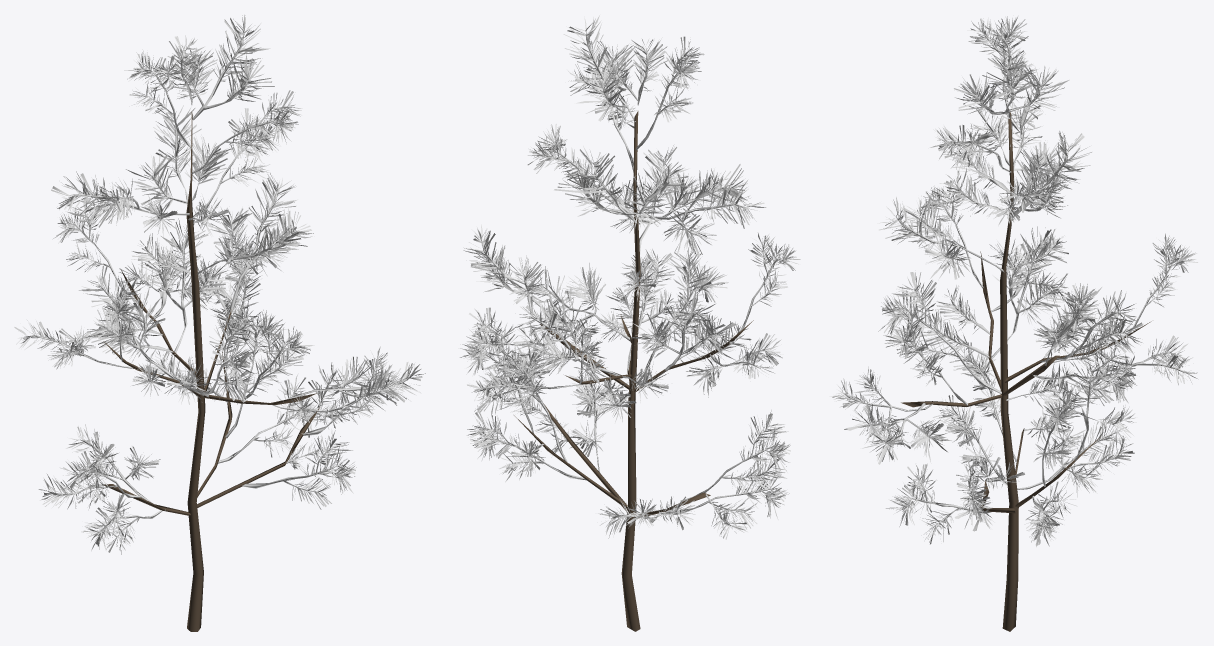
Rendered from Pine_LOD0.fbx.
3 views of the same model, side by side, from view 1: azimuth 30°, elevation 25°; view 2: azimuth 150°, elevation 25°; view 3: azimuth 270°, elevation 25° (orthographic).
Visible parts, largest first — view 1: Pine_LOD0; view 2: Pine_LOD0; view 3: Pine_LOD0.
Part boxes in pixels (box(x1,y1,x2,y2)): Pine_LOD0: box(14, 14, 425, 631); Pine_LOD0: box(460, 15, 800, 631); Pine_LOD0: box(829, 16, 1197, 631).
Size of the model in its own units: 78.56 by 130 by 72.61.
